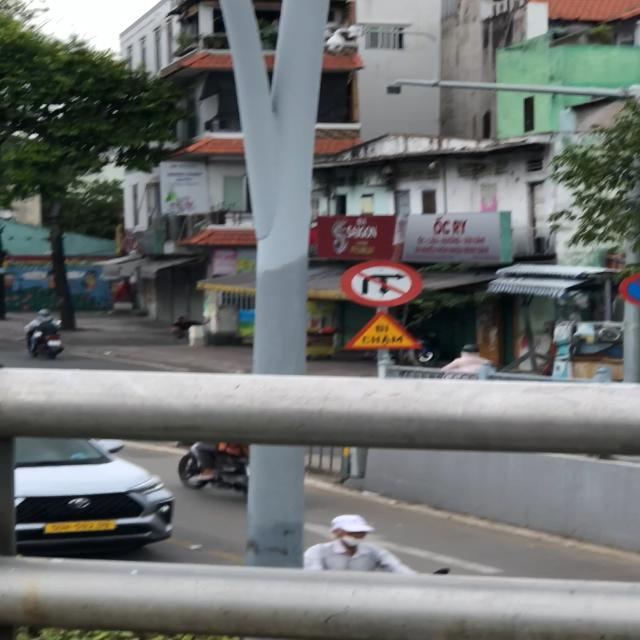Bien bao cam re phai va quay dau: (335, 257, 425, 309)
Bien bao di cham: (347, 310, 424, 354)
